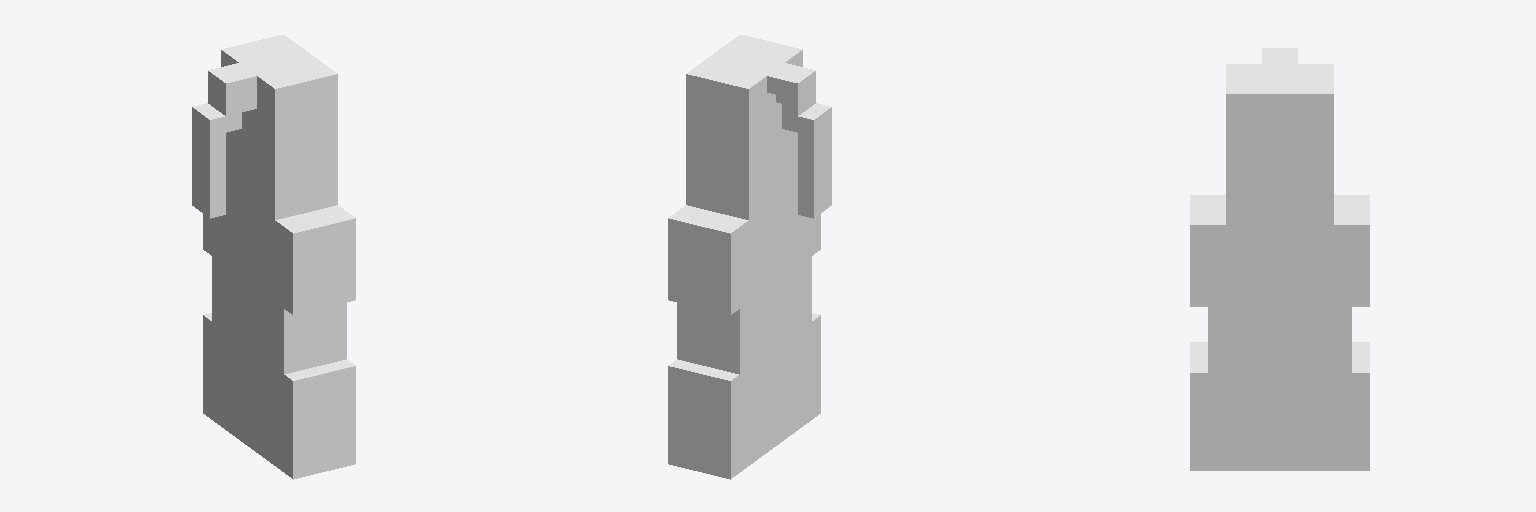
File: girlbody.obj
The picture shows the model from 3 angles: view 1: azimuth 30°, elevation 25°; view 2: azimuth 150°, elevation 25°; view 3: azimuth 270°, elevation 25°; orthographic projection.
Visible parts, largest first — view 1: girlbody; view 2: girlbody; view 3: girlbody.
Boxes of the visible parts, x1=… form: girlbody: x1=192, y1=34, x2=355, y2=479; girlbody: x1=668, y1=34, x2=831, y2=479; girlbody: x1=1190, y1=48, x2=1369, y2=470.
Size of the model in its own units: 7 by 23 by 10.